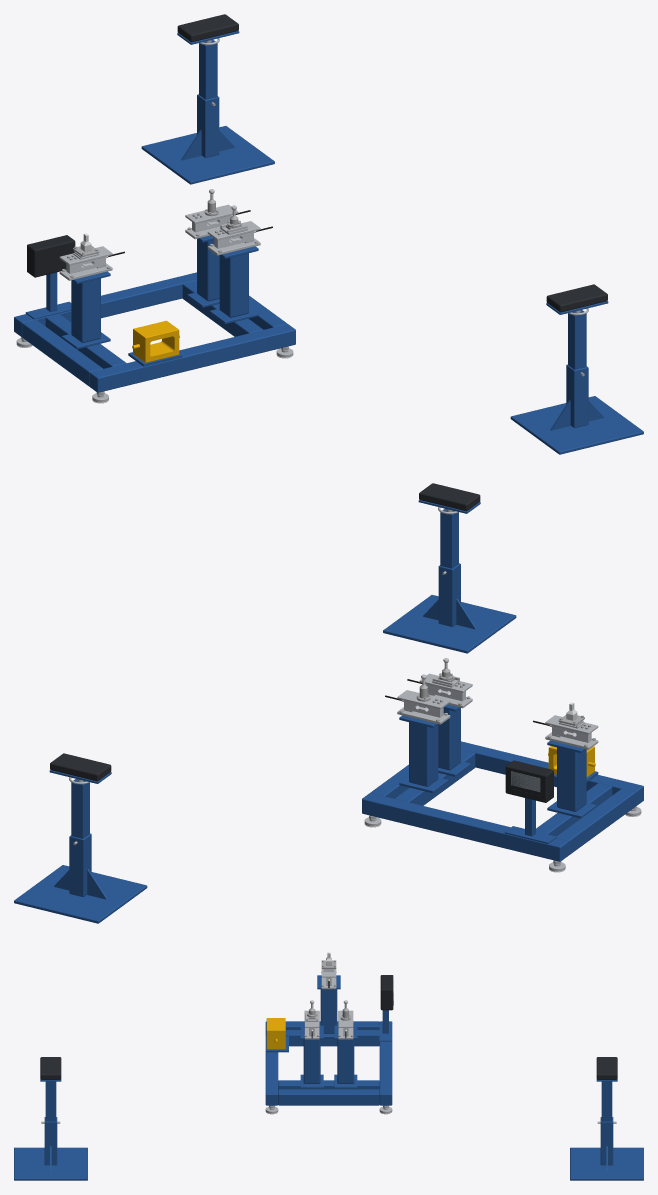
File: DW-R5_rig.glb
The picture shows the model from 3 angles, top to bottom: view 1: azimuth 30°, elevation 25°; view 2: azimuth 150°, elevation 25°; view 3: azimuth 270°, elevation 25°; orthographic projection. The views are drawn at different scales.
Parts seen in each view (by area): view 1: RIG_FRAME, RIG_WTS_R, RIG_WTS_L, RIG_COL_F, RIG_COL_L, RIG_IND, RIG_SPACER, RIG_COL_R, RIG_LC_F, RIG_LC_L, RIG_LC_R; view 2: RIG_FRAME, RIG_WTS_R, RIG_WTS_L, RIG_IND, RIG_COL_R, RIG_COL_F, RIG_COL_L, RIG_LC_R, RIG_LC_F, RIG_LC_L; view 3: RIG_FRAME, RIG_WTS_R, RIG_WTS_L, RIG_COL_R, RIG_COL_L, RIG_COL_F, RIG_IND, RIG_SPACER, RIG_LC_R, RIG_LC_L.
Boxes of the visible parts, bbox=[...] form: RIG_FRAME: bbox=[14, 272, 295, 392]; RIG_WTS_R: bbox=[141, 14, 274, 184]; RIG_WTS_L: bbox=[510, 284, 643, 454]; RIG_COL_F: bbox=[61, 271, 110, 349]; RIG_COL_L: bbox=[209, 246, 258, 324]; RIG_IND: bbox=[25, 235, 75, 319]; RIG_SPACER: bbox=[132, 320, 179, 362]; RIG_COL_R: bbox=[187, 235, 219, 307]; RIG_LC_F: bbox=[59, 246, 124, 280]; RIG_LC_L: bbox=[207, 221, 272, 255]; RIG_LC_R: bbox=[185, 204, 250, 239]; RIG_FRAME: bbox=[362, 741, 643, 861]; RIG_WTS_R: bbox=[14, 753, 147, 923]; RIG_WTS_L: bbox=[383, 483, 516, 653]; RIG_IND: bbox=[504, 760, 556, 843]; RIG_COL_R: bbox=[399, 715, 448, 793]; RIG_COL_F: bbox=[547, 740, 596, 818]; RIG_COL_L: bbox=[438, 704, 470, 776]; RIG_LC_R: bbox=[385, 690, 450, 724]; RIG_LC_F: bbox=[533, 715, 598, 749]; RIG_LC_L: bbox=[407, 673, 472, 708]; RIG_FRAME: bbox=[265, 1021, 392, 1105]; RIG_WTS_R: bbox=[570, 1057, 643, 1180]; RIG_WTS_L: bbox=[14, 1057, 87, 1180]; RIG_COL_R: bbox=[334, 1025, 357, 1088]; RIG_COL_L: bbox=[300, 1025, 323, 1088]; RIG_COL_F: bbox=[317, 975, 340, 1038]; RIG_IND: bbox=[379, 975, 393, 1041]; RIG_SPACER: bbox=[266, 1018, 285, 1049]; RIG_LC_R: bbox=[338, 1010, 353, 1039]; RIG_LC_L: bbox=[304, 1010, 319, 1039].
Size of the model in its own units: 1.57 by 0.5317 by 2.98.
12 materials, 3 textured.
